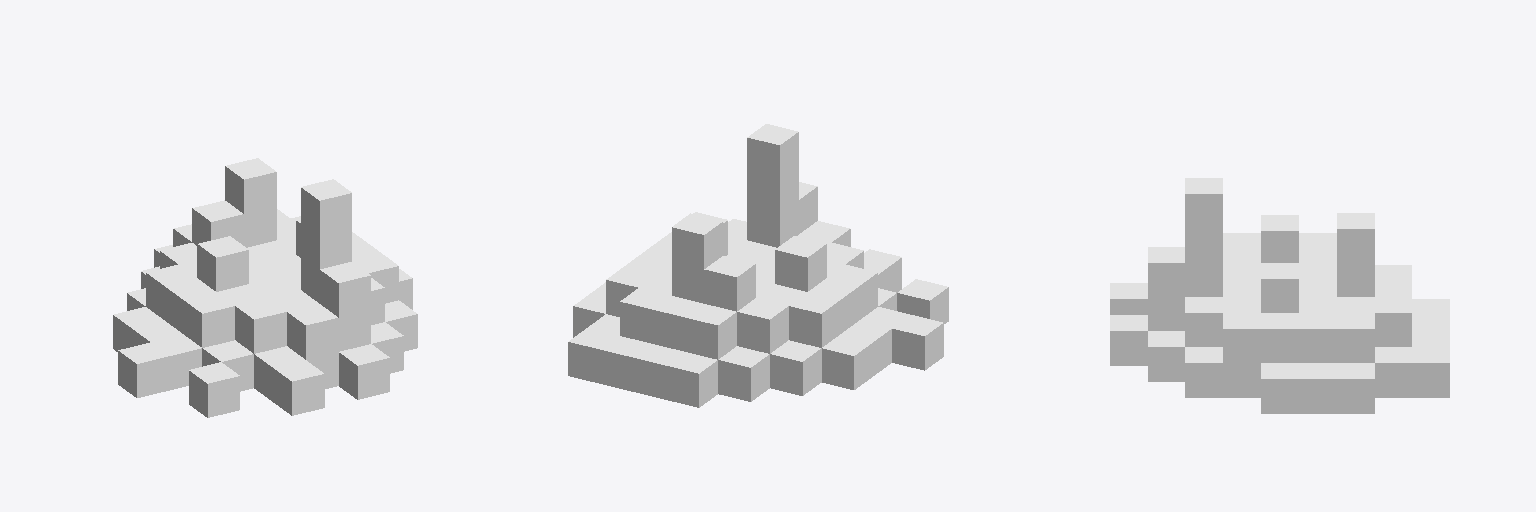
File: scummBarFireFrame2.obj
The picture shows the model from 3 angles: view 1: azimuth 30°, elevation 25°; view 2: azimuth 150°, elevation 25°; view 3: azimuth 270°, elevation 25°; orthographic projection.
Size of the model in its own units: 9 by 5 by 9.